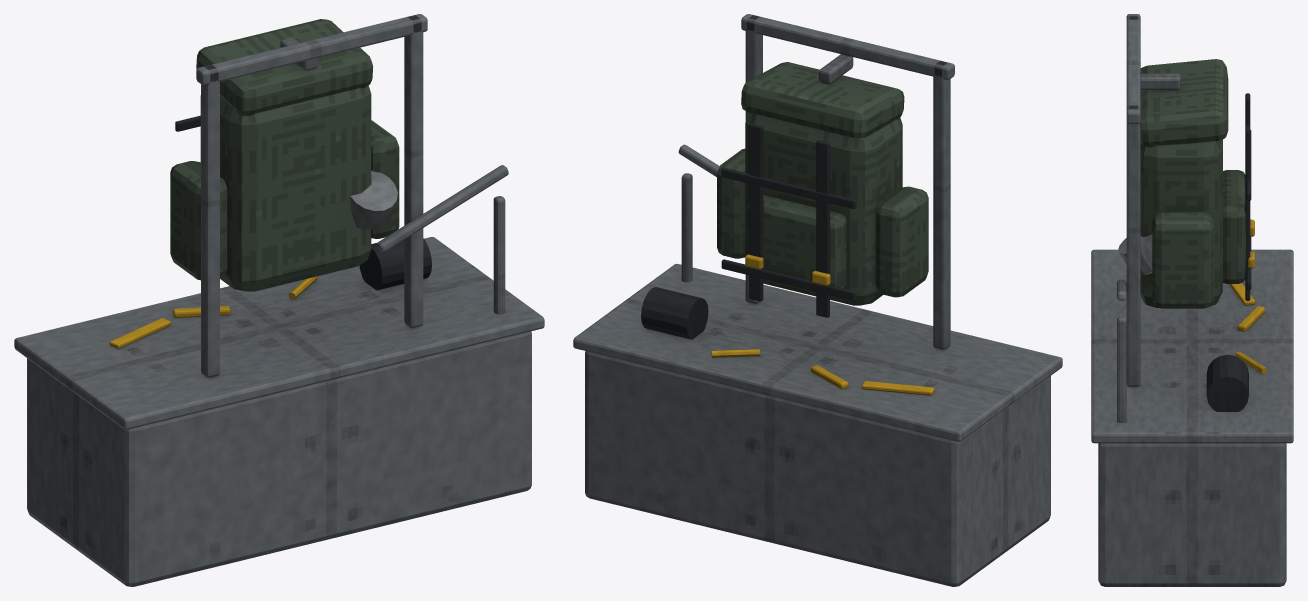
File: base_pack_rig.glb
3 renders of one model, left to right at view 1: azimuth 30°, elevation 25°; view 2: azimuth 150°, elevation 25°; view 3: azimuth 270°, elevation 25°, orthographic. The views are drawn at different scales.
Visible parts, largest first — view 1: base_pack_rig; view 2: base_pack_rig; view 3: base_pack_rig.
Part boxes in pixels (left/top/right/bottom): base_pack_rig: left=14, top=14, right=544, bottom=586; base_pack_rig: left=573, top=14, right=1062, bottom=586; base_pack_rig: left=1091, top=14, right=1293, bottom=586.
Bounding box in the file's own units: 1.86 × 2.05 × 0.86.
Materials: 5 (5 with a texture image).
